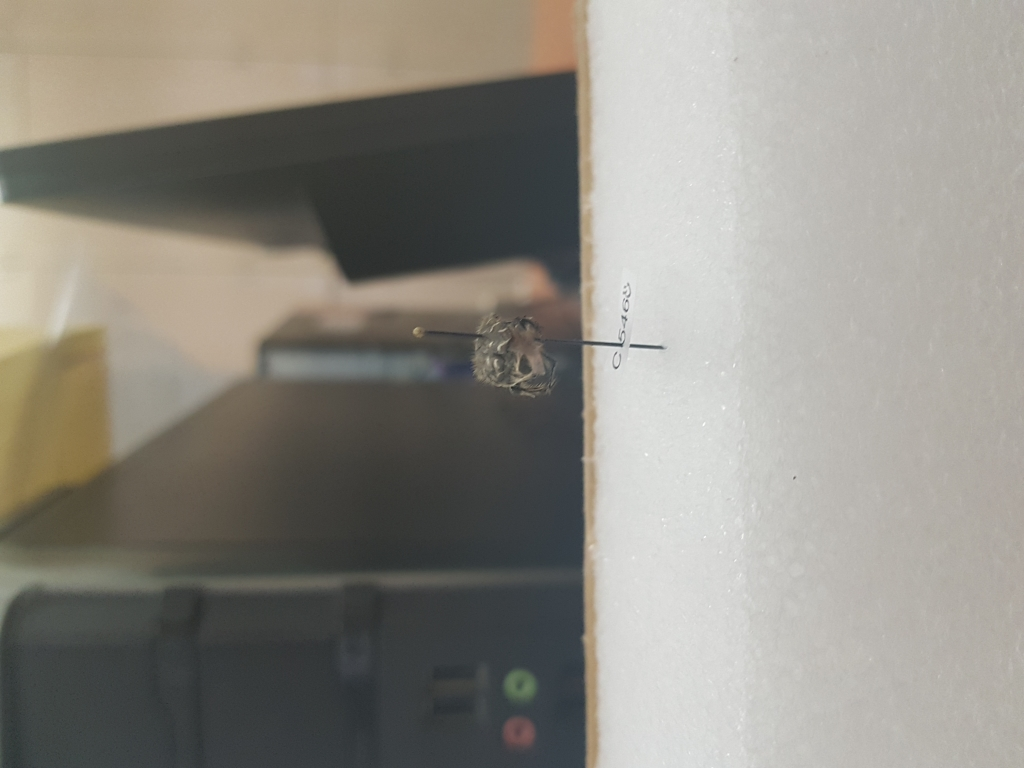Tropinota_senicula: (450, 305, 562, 417)
